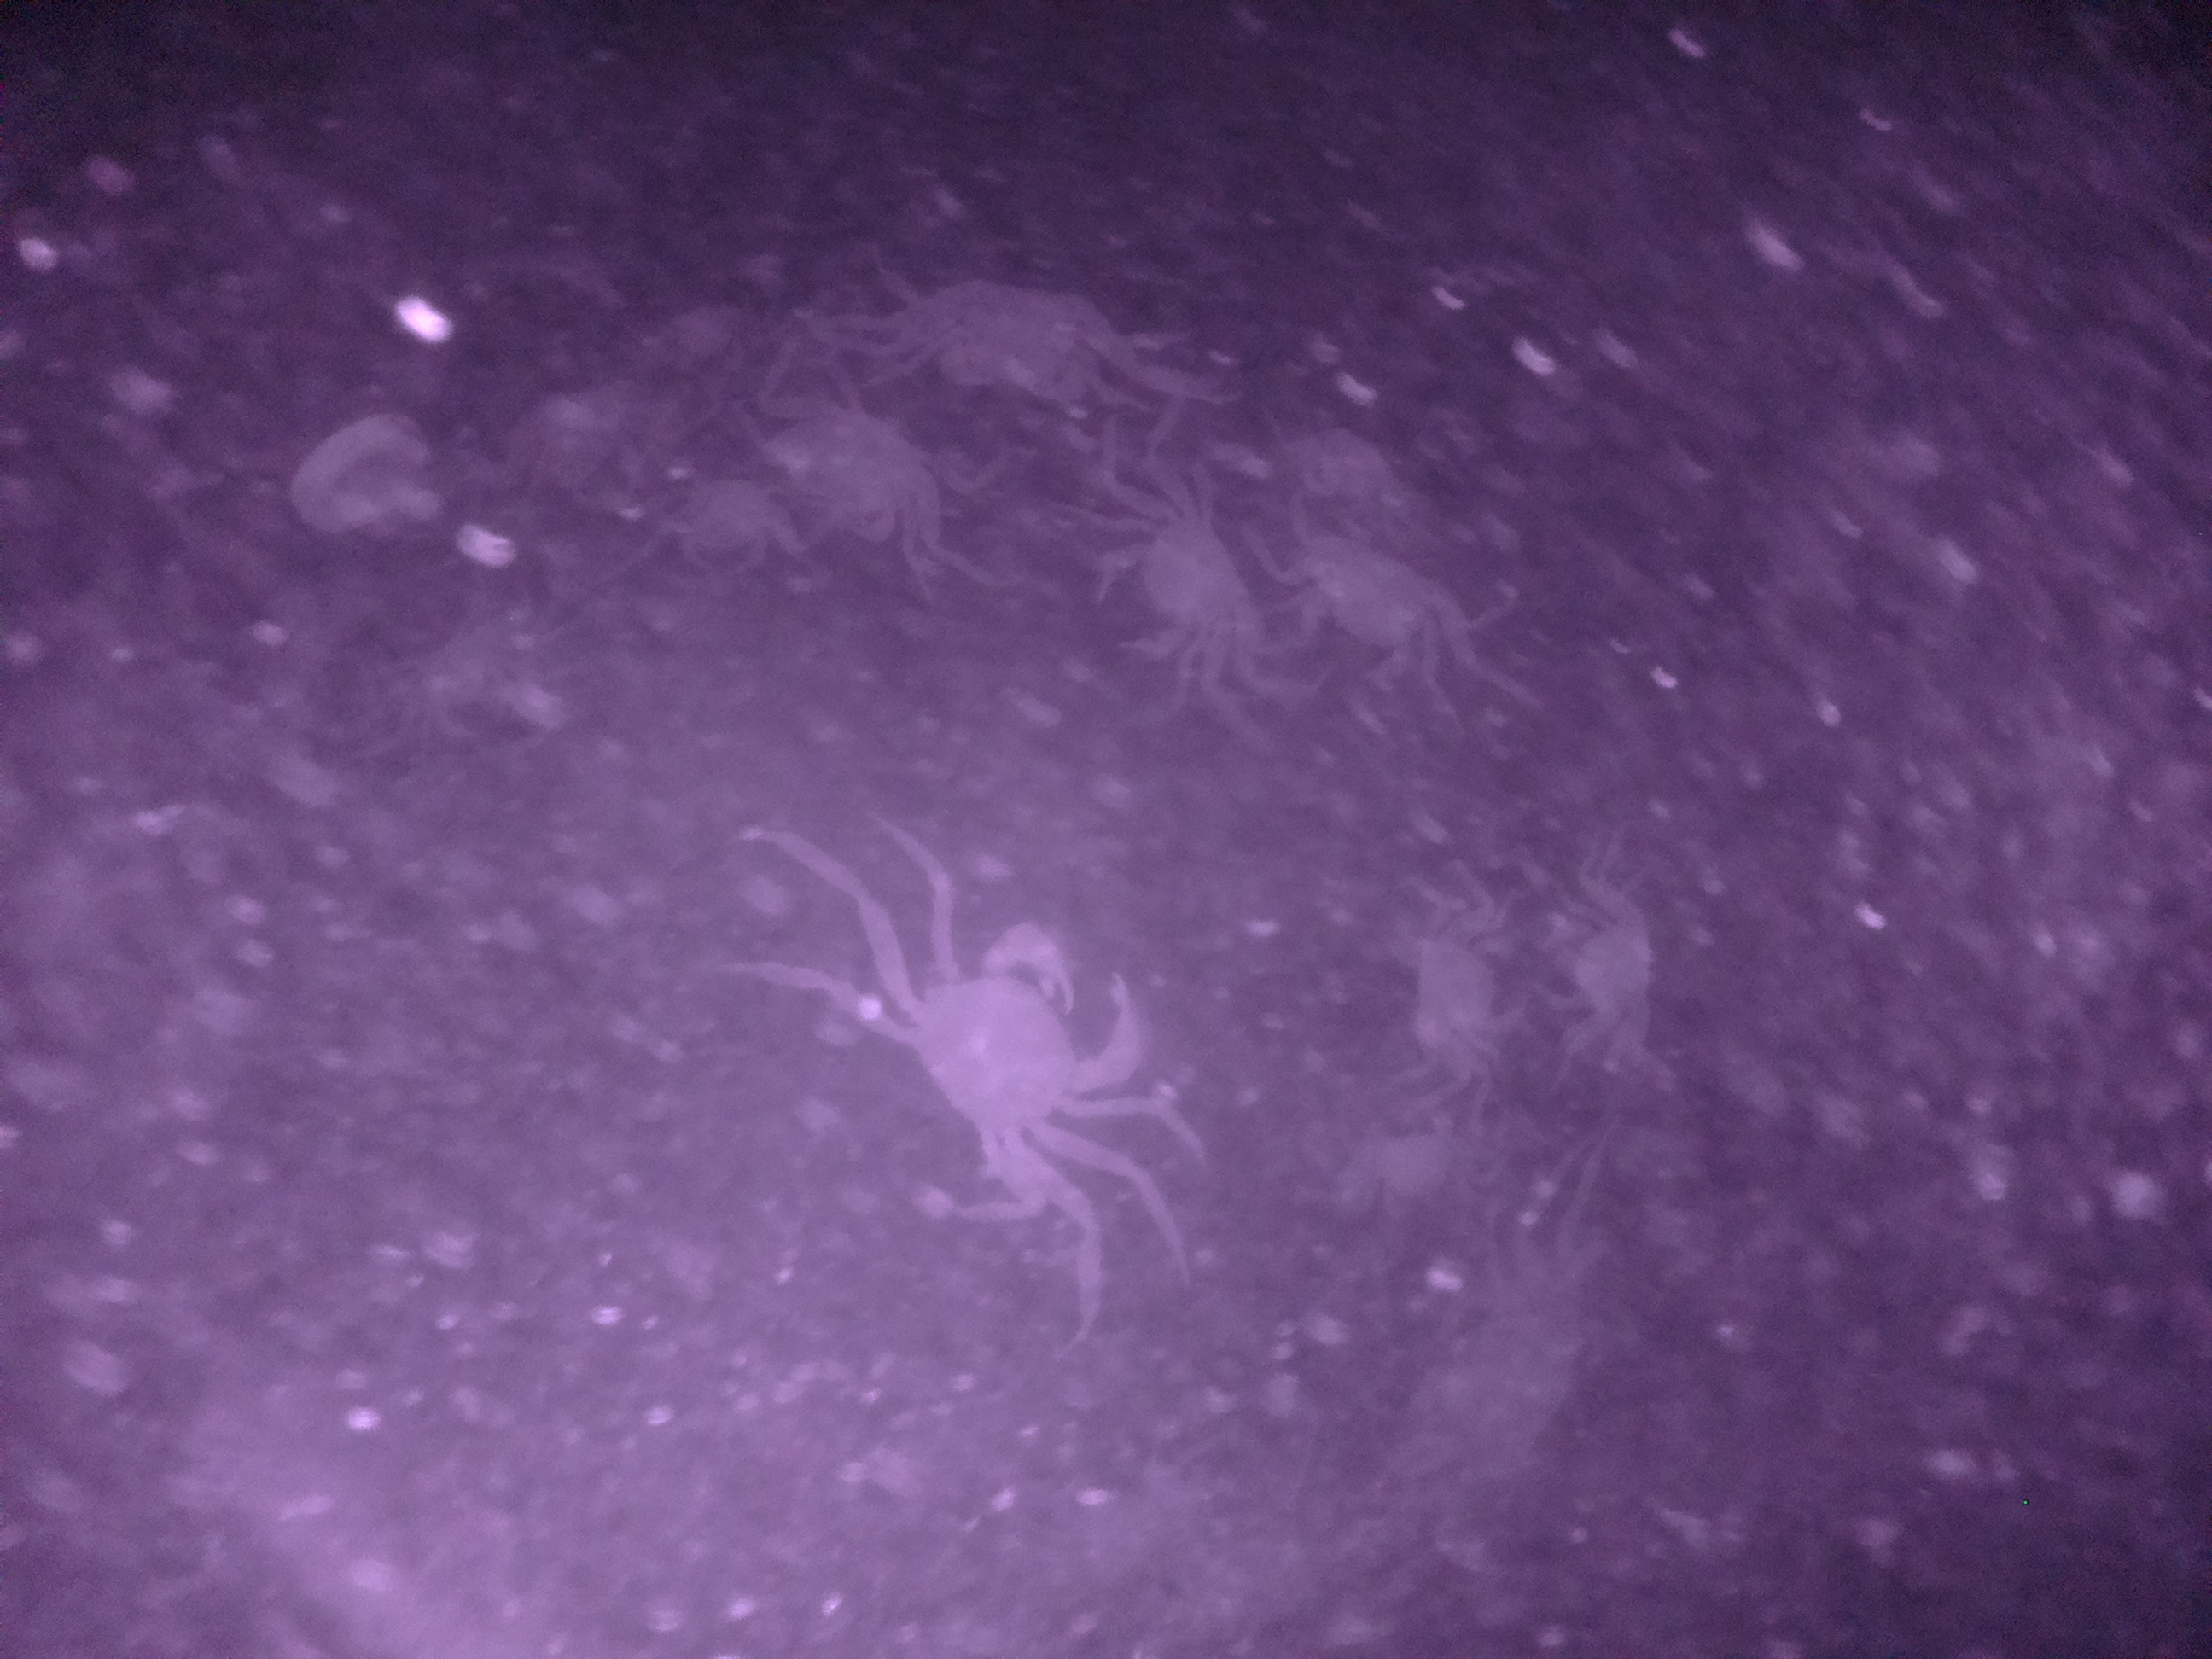Crab: (890, 911, 1148, 1190), (1282, 530, 1507, 711), (881, 260, 1144, 413), (1089, 472, 1251, 685), (1540, 854, 1681, 1063), (1395, 897, 1527, 1084)
